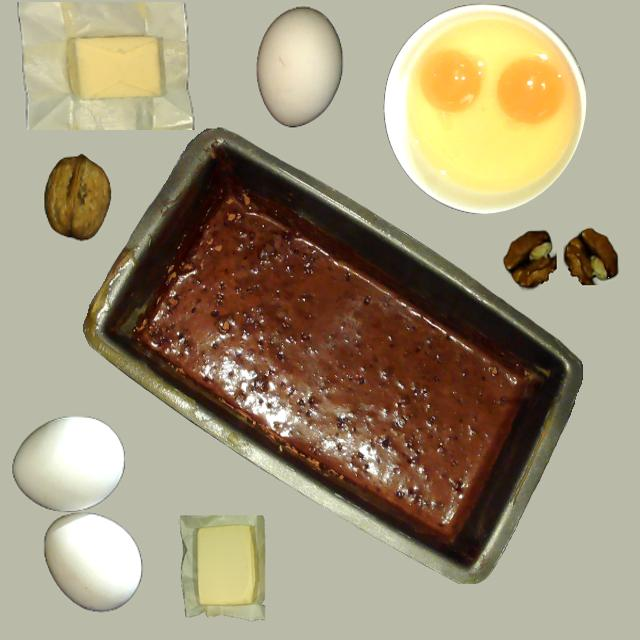Egg: (497, 56, 564, 125), (421, 49, 483, 114)
Walnut: (44, 155, 110, 239)
